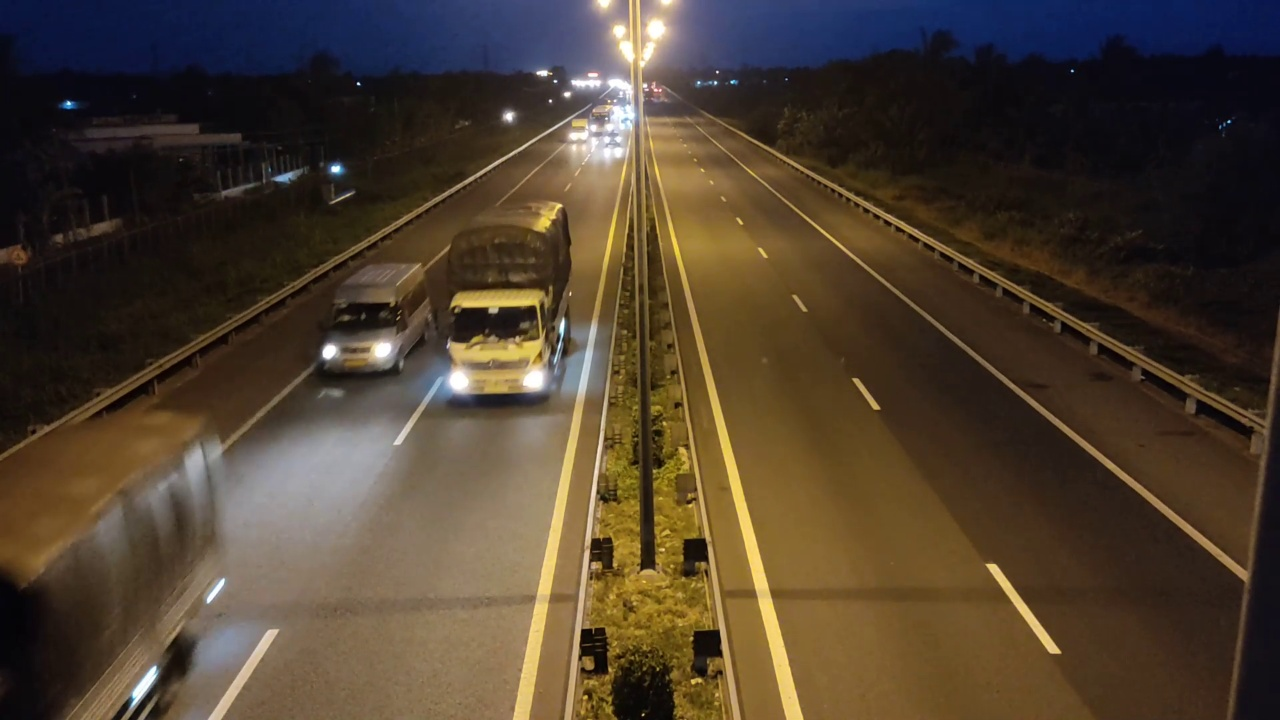car: (315, 253, 432, 384)
truck: (445, 199, 574, 407)
